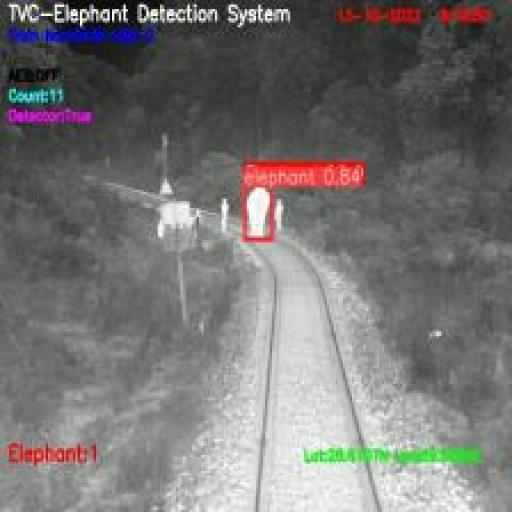Elephant: (245, 185, 272, 240)
